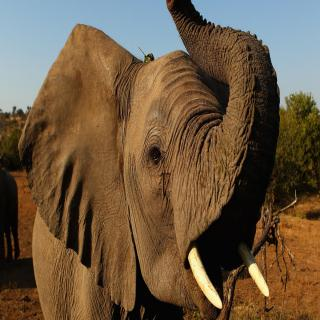Elephant: (20, 0, 284, 320)
